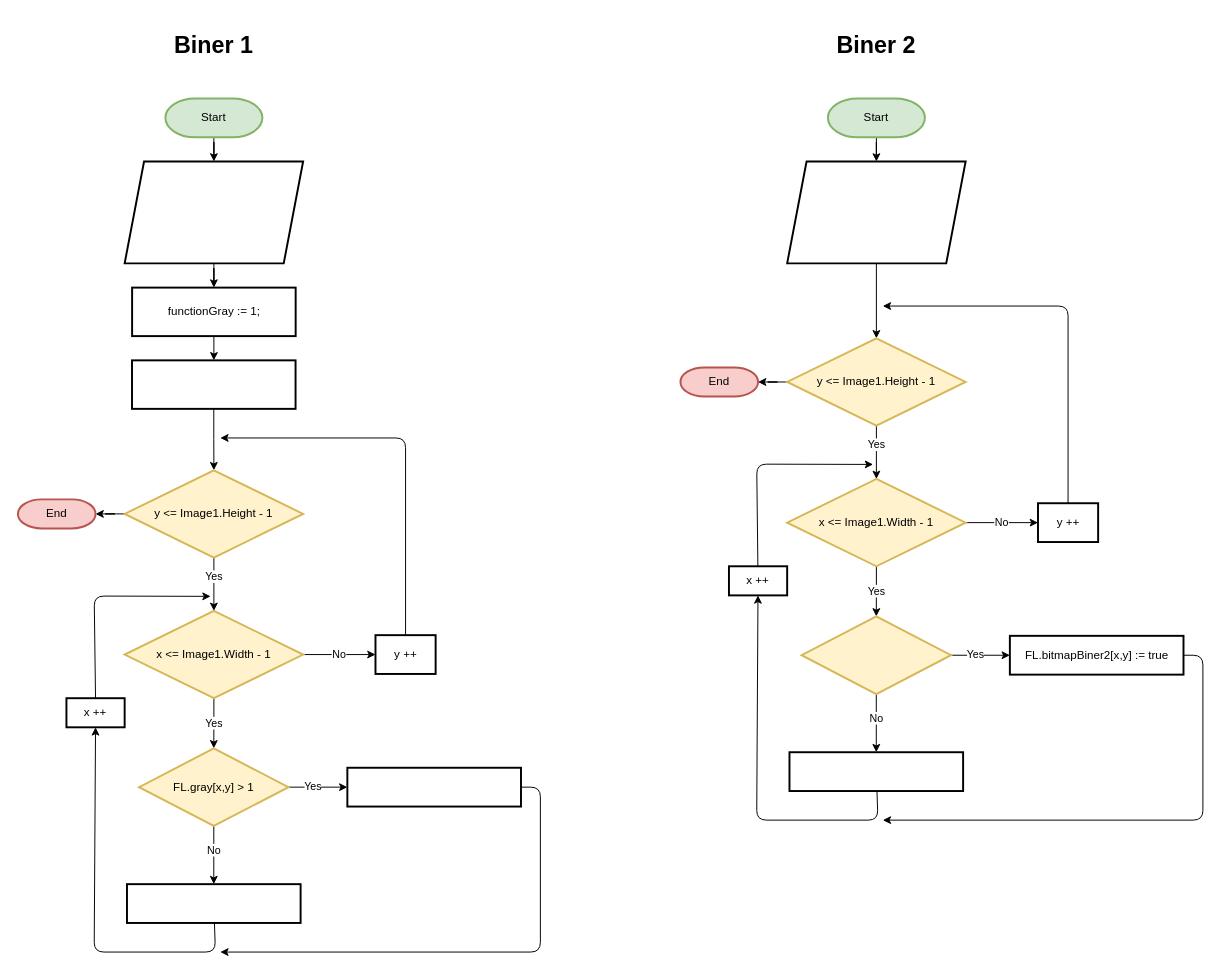
This 1228x977 diagram has some shape labels left out. Each missing label, with the centre of its shape:
Deklarasi: x, y: Integer: pixel 876 212
Deklarasi: x, y: Integer functionGray: Byte: pixel 213 212
FL.bitmapBiner2[x,y] := flase: pixel 876 771
FL.bitmapBiner[x,y] := flase: pixel 213 903
FL.bitmapBiner[x,y] := true: pixel 433 786
FL.gray[x,y] > 165: pixel 875 655
Grayscale(functionGray): pixel 213 384
